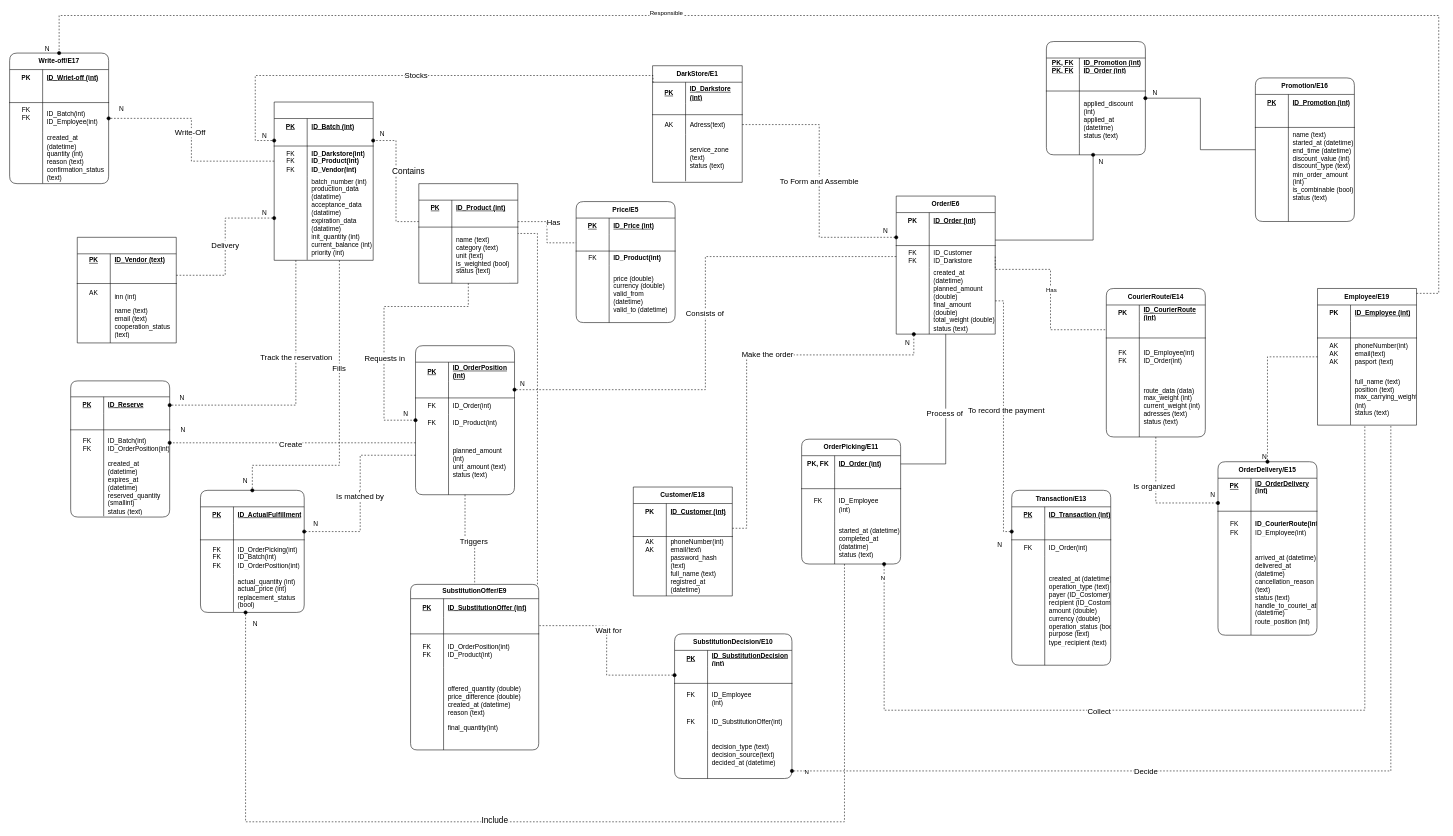
Some shapes in this 1453 by 836 pixel diagram are drawn without their labels. The box of each missing label's shape, as (x1, y1, x2, y2) in pixels:
ActualFulfillment/E12: (200, 490, 304, 612)
AppliedPromotion: (1046, 41, 1145, 155)
Batch/E4: (274, 101, 373, 260)
OrderPosition/E7: (415, 345, 515, 495)
Product/E2: (418, 183, 518, 283)
Reserve/E8: (70, 380, 170, 517)
Vendor/E3: (77, 237, 176, 343)
